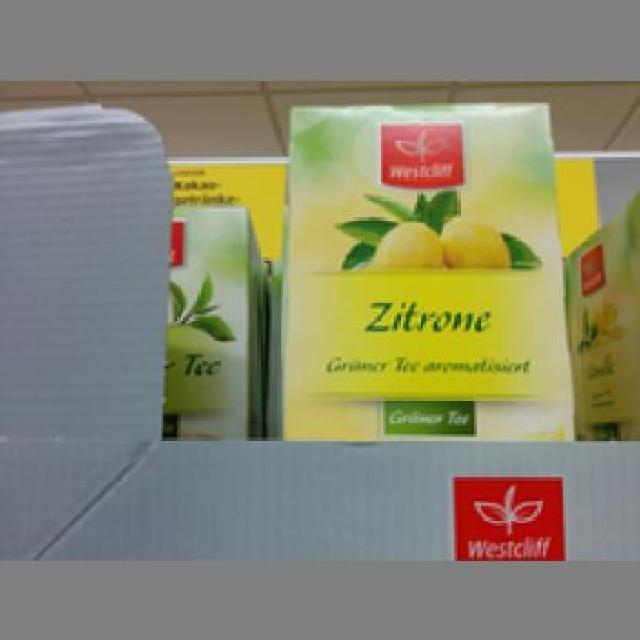Tea: (272, 97, 574, 437)
